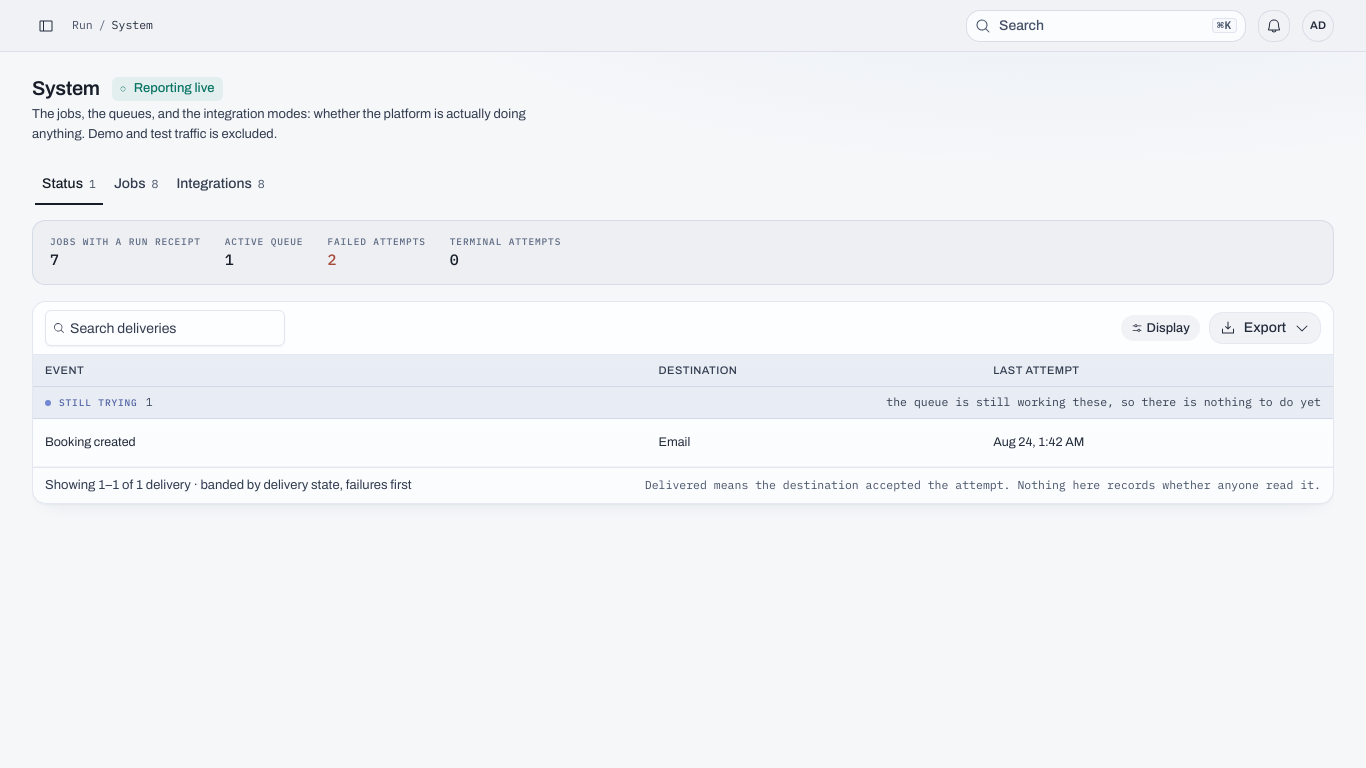
Test case: AdminSystemHealth › keeps a free-text error detail verbatim rather than mangling it as a machine code
Click the tab "Jobs 8" at coordinates (136, 184), box [107,172,165,196]
(page scrolled)
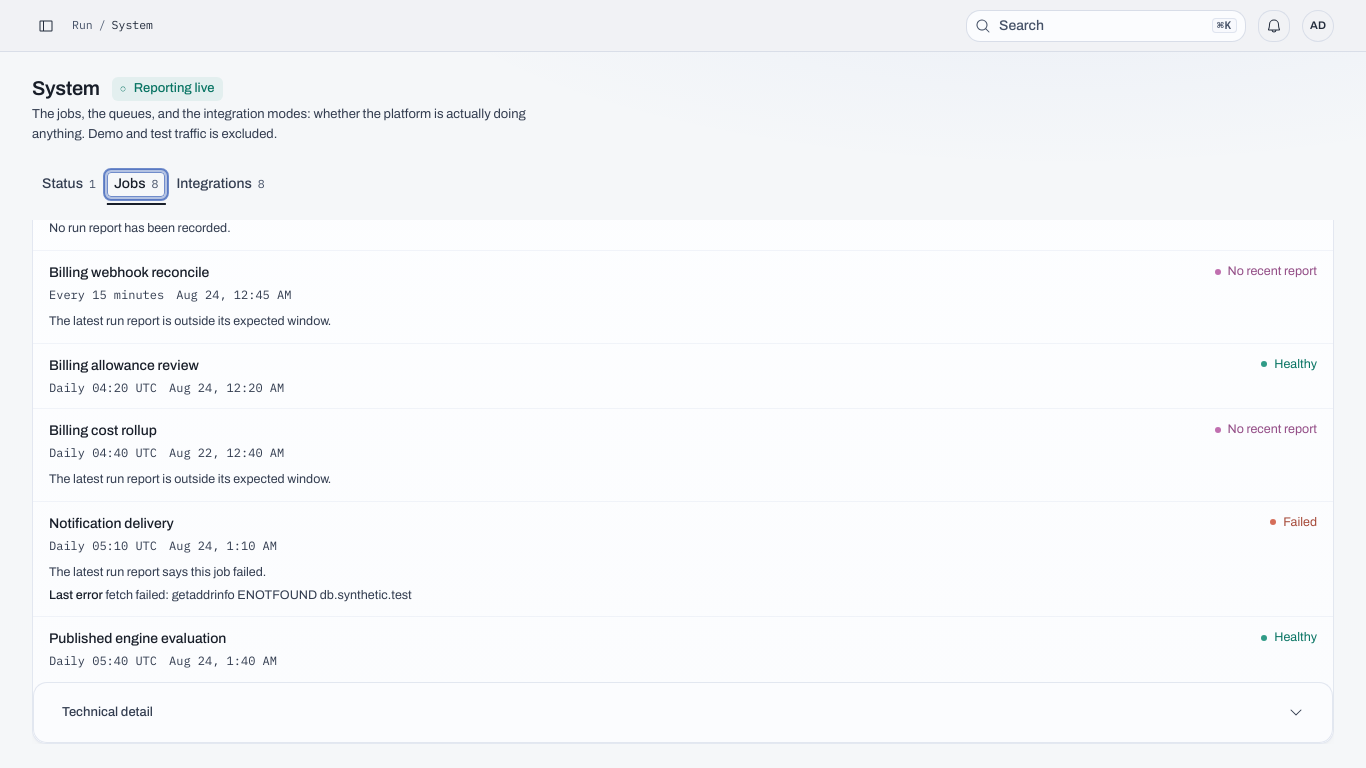
Check: the text "fetch failed: getaddrinfo ENOTFOUND db.synthetic.test" is shown, box [105,588,412,602]
